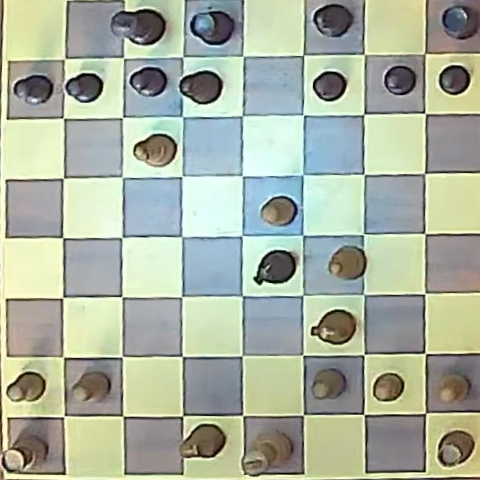black-bishop: (179, 70, 222, 104), (313, 4, 352, 38)
black-king: (112, 8, 165, 46)
black-knight: (253, 250, 295, 285)
black-pawn: (14, 75, 53, 105), (65, 72, 104, 102), (129, 67, 167, 97), (312, 71, 346, 101), (383, 65, 416, 95), (438, 65, 470, 95)
black-rook: (189, 10, 234, 45), (440, 5, 477, 39)
white-bishop: (327, 246, 366, 281), (134, 134, 176, 166)
white-king: (242, 429, 293, 476)
white-knight: (179, 424, 226, 459), (311, 310, 356, 345)
white-pawn: (6, 372, 45, 403), (71, 372, 109, 402), (260, 196, 296, 226), (312, 369, 345, 399), (437, 374, 469, 403), (373, 373, 404, 401)
white-rook: (1, 434, 47, 473), (437, 431, 474, 467)
